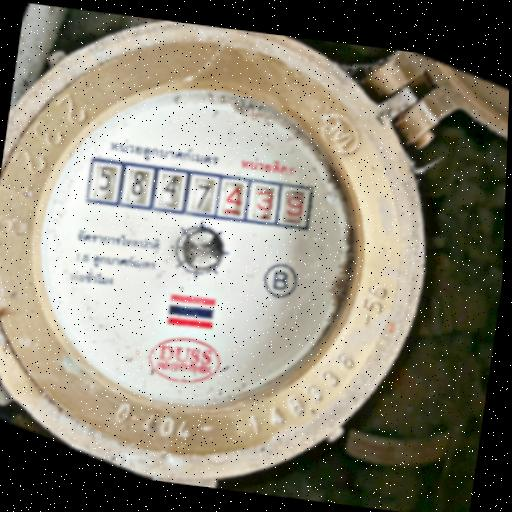3: (251, 185, 274, 221)
4: (222, 182, 245, 219), (159, 174, 182, 209)
5: (94, 166, 117, 200)
7: (192, 178, 215, 213)
8: (126, 170, 151, 204)
9: (281, 191, 306, 223)
border_water_meter_number: (84, 157, 317, 231)
